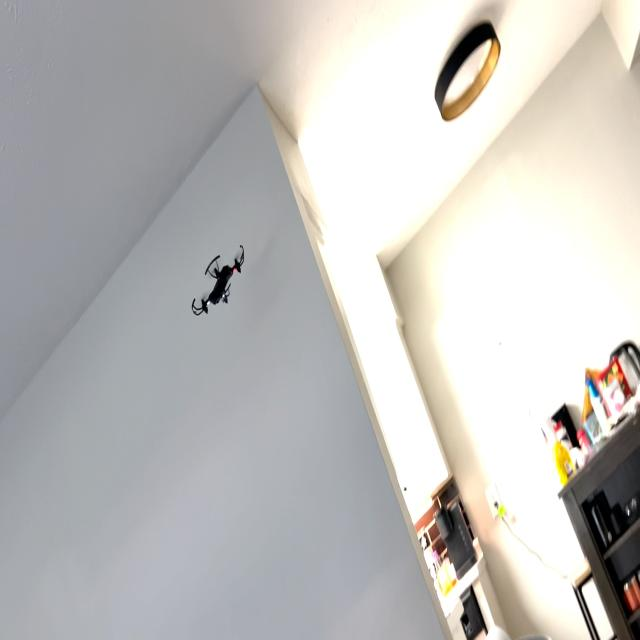drone: (182, 232, 259, 328)
